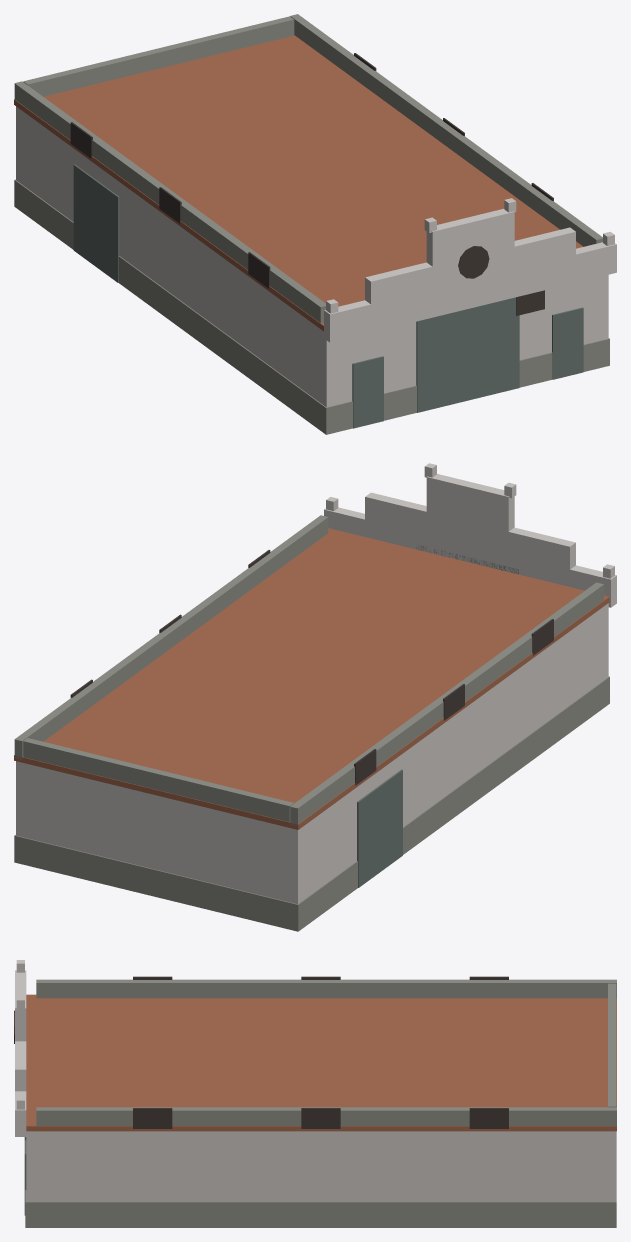
File: SM_Cooperativa_v0_Almacen_LOD0.fbx
3 renders of one model, top to bottom at view 1: azimuth 30°, elevation 25°; view 2: azimuth 150°, elevation 25°; view 3: azimuth 270°, elevation 25°, orthographic. The views are drawn at different scales.
Parts seen in each view (by area): view 1: SM_bloques.cooperativa_v0_LOD0; view 2: SM_bloques.cooperativa_v0_LOD0; view 3: SM_bloques.cooperativa_v0_LOD0.
Boxes of the visible parts, x1,y1,x2,y2 form: SM_bloques.cooperativa_v0_LOD0: (14, 14, 616, 434); SM_bloques.cooperativa_v0_LOD0: (14, 463, 616, 931); SM_bloques.cooperativa_v0_LOD0: (14, 960, 616, 1227).
Size of the model in its own units: 11.2 by 7.15 by 21.49.
